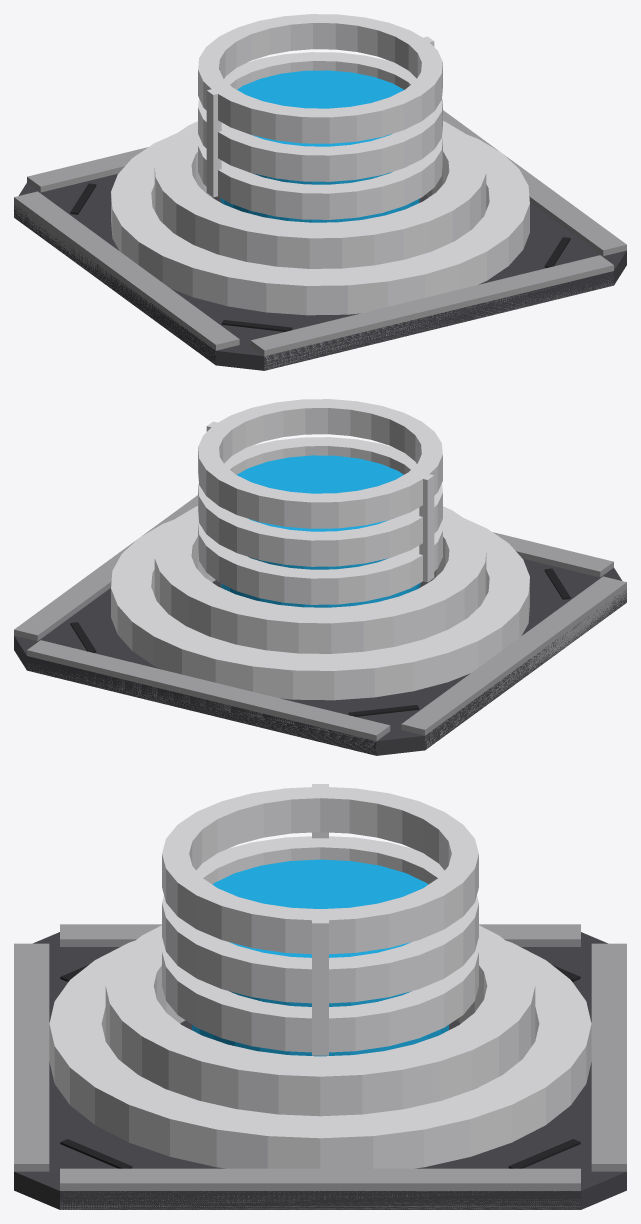
File: vge_gravcore_power_coil.obj
3 views of the same model, one above another, from view 1: azimuth 30°, elevation 25°; view 2: azimuth 150°, elevation 25°; view 3: azimuth 270°, elevation 25° (orthographic). The views are drawn at different scales.
Parts seen in each view (by area): view 1: vge_gravcore_power_coil_17, vge_gravcore_power_coil_18, vge_gravcore_power_coil_22, vge_gravcore_power_coil_0, vge_gravcore_power_coil_21, vge_gravcore_power_coil_2, vge_gravcore_power_coil_20, vge_gravcore_power_coil_1, vge_gravcore_power_coil_19, vge_gravcore_power_coil_3, vge_gravcore_power_coil_4, vge_gravcore_power_coil_23; view 2: vge_gravcore_power_coil_17, vge_gravcore_power_coil_18, vge_gravcore_power_coil_22, vge_gravcore_power_coil_0, vge_gravcore_power_coil_21, vge_gravcore_power_coil_4, vge_gravcore_power_coil_20, vge_gravcore_power_coil_1, vge_gravcore_power_coil_19, vge_gravcore_power_coil_3, vge_gravcore_power_coil_2, vge_gravcore_power_coil_23; view 3: vge_gravcore_power_coil_17, vge_gravcore_power_coil_18, vge_gravcore_power_coil_22, vge_gravcore_power_coil_0, vge_gravcore_power_coil_21, vge_gravcore_power_coil_20, vge_gravcore_power_coil_3, vge_gravcore_power_coil_19, vge_gravcore_power_coil_2, vge_gravcore_power_coil_4, vge_gravcore_power_coil_1, vge_gravcore_power_coil_24.
Part boxes in pixels (x1,y1,x2,y2): vge_gravcore_power_coil_17: (111,133,529,315); vge_gravcore_power_coil_18: (154,121,486,268); vge_gravcore_power_coil_22: (198,14,442,143); vge_gravcore_power_coil_0: (14,174,626,370); vge_gravcore_power_coil_21: (198,52,442,181); vge_gravcore_power_coil_2: (250,255,613,369); vge_gravcore_power_coil_20: (198,136,442,219); vge_gravcore_power_coil_1: (14,191,239,364); vge_gravcore_power_coil_19: (220,70,419,222); vge_gravcore_power_coil_3: (443,110,626,256); vge_gravcore_power_coil_4: (27,147,148,192); vge_gravcore_power_coil_23: (206,88,221,197); vge_gravcore_power_coil_17: (111,518,529,700); vge_gravcore_power_coil_18: (154,506,486,653); vge_gravcore_power_coil_22: (198,399,442,528); vge_gravcore_power_coil_0: (14,559,626,755); vge_gravcore_power_coil_21: (198,437,442,566); vge_gravcore_power_coil_4: (27,640,390,755); vge_gravcore_power_coil_20: (198,521,442,604); vge_gravcore_power_coil_1: (401,576,626,748); vge_gravcore_power_coil_19: (221,455,420,607); vge_gravcore_power_coil_3: (14,495,197,641); vge_gravcore_power_coil_2: (492,532,613,577); vge_gravcore_power_coil_23: (419,473,434,582); vge_gravcore_power_coil_17: (49,940,591,1168); vge_gravcore_power_coil_18: (105,925,535,1116); vge_gravcore_power_coil_22: (162,786,478,954); vge_gravcore_power_coil_0: (14,932,626,1209); vge_gravcore_power_coil_21: (162,836,478,1003); vge_gravcore_power_coil_20: (162,945,478,1052); vge_gravcore_power_coil_3: (60,1168,580,1209); vge_gravcore_power_coil_19: (192,859,448,1056); vge_gravcore_power_coil_2: (14,943,49,1171); vge_gravcore_power_coil_4: (591,943,626,1171); vge_gravcore_power_coil_1: (60,924,580,946); vge_gravcore_power_coil_24: (312,918,328,1055).
Bounding box in the file's own units: 2.94 × 1.2 × 2.94.
